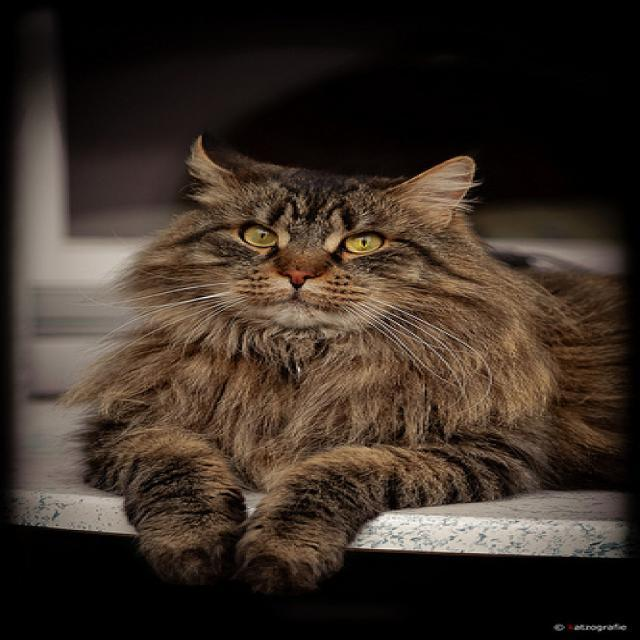Maine_Coon: (186, 133, 471, 325)
